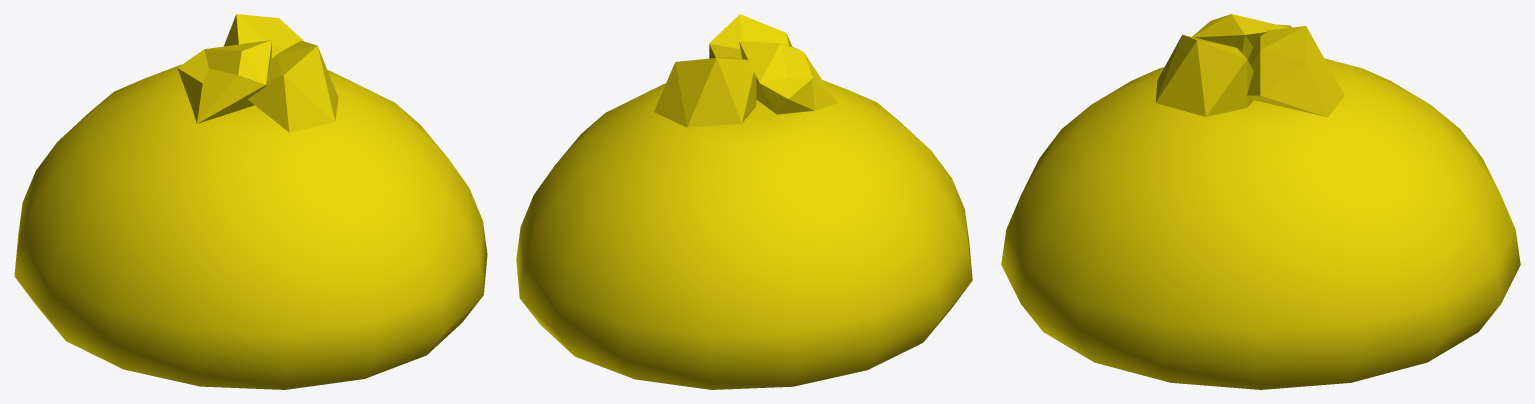
File: Envi_Cactus_Round_01_v01.fbx
3 views of the same model, side by side, from view 1: azimuth 30°, elevation 25°; view 2: azimuth 150°, elevation 25°; view 3: azimuth 270°, elevation 25° (orthographic). The views are drawn at different scales.
Parts seen in each view (by area): view 1: Truck_Ex_Set03_Cactus_Round_02, Truck_Ex_Set03_Rock_Small_02, Truck_Ex_Set03_Rock_Small_4, Truck_Ex_Set03_Rock_Small_01; view 2: Truck_Ex_Set03_Cactus_Round_02, Truck_Ex_Set03_Rock_Small_01, Truck_Ex_Set03_Rock_Small_02, Truck_Ex_Set03_Rock_Small_4; view 3: Truck_Ex_Set03_Cactus_Round_02, Truck_Ex_Set03_Rock_Small_01, Truck_Ex_Set03_Rock_Small_4, Truck_Ex_Set03_Rock_Small_02.
Boxes of the visible parts, <box> form: Truck_Ex_Set03_Cactus_Round_02: <box>14,64,487,389</box>; Truck_Ex_Set03_Rock_Small_02: <box>177,40,271,123</box>; Truck_Ex_Set03_Rock_Small_4: <box>248,40,338,132</box>; Truck_Ex_Set03_Rock_Small_01: <box>223,14,304,58</box>; Truck_Ex_Set03_Cactus_Round_02: <box>516,80,972,389</box>; Truck_Ex_Set03_Rock_Small_01: <box>654,57,756,127</box>; Truck_Ex_Set03_Rock_Small_02: <box>739,41,837,114</box>; Truck_Ex_Set03_Rock_Small_4: <box>709,14,792,93</box>; Truck_Ex_Set03_Cactus_Round_02: <box>1001,58,1520,389</box>; Truck_Ex_Set03_Rock_Small_01: <box>1247,26,1344,117</box>; Truck_Ex_Set03_Rock_Small_4: <box>1155,34,1253,116</box>; Truck_Ex_Set03_Rock_Small_02: <box>1192,14,1291,59</box>.
Bounding box in the file's own units: 10.38 × 6.42 × 11.03.
